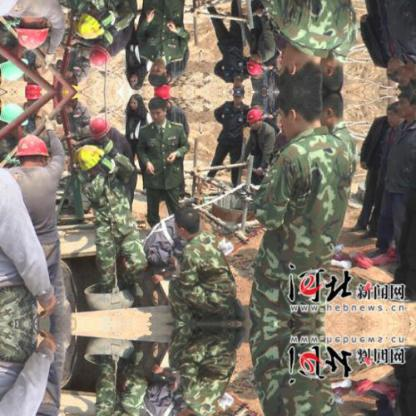head: (273, 91, 321, 136), (273, 45, 321, 90), (173, 200, 204, 236), (320, 91, 345, 127), (320, 53, 345, 89), (385, 97, 403, 125), (385, 55, 403, 83), (396, 92, 414, 119), (396, 62, 414, 89), (147, 96, 167, 119), (147, 62, 167, 85), (127, 91, 141, 110), (127, 71, 141, 90)
helmet: (10, 133, 50, 172), (10, 9, 50, 48), (0, 98, 26, 139), (0, 42, 26, 83), (74, 142, 106, 171), (74, 10, 106, 39), (86, 113, 109, 138), (86, 43, 109, 68), (243, 108, 262, 129), (243, 52, 262, 73), (153, 91, 171, 108), (153, 73, 171, 90), (60, 91, 79, 106), (60, 75, 79, 90)
